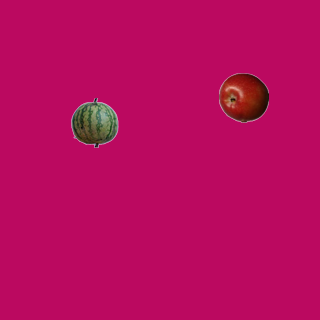Apple Braeburn: (218, 72, 268, 122)
Watermelon: (69, 97, 119, 147)
